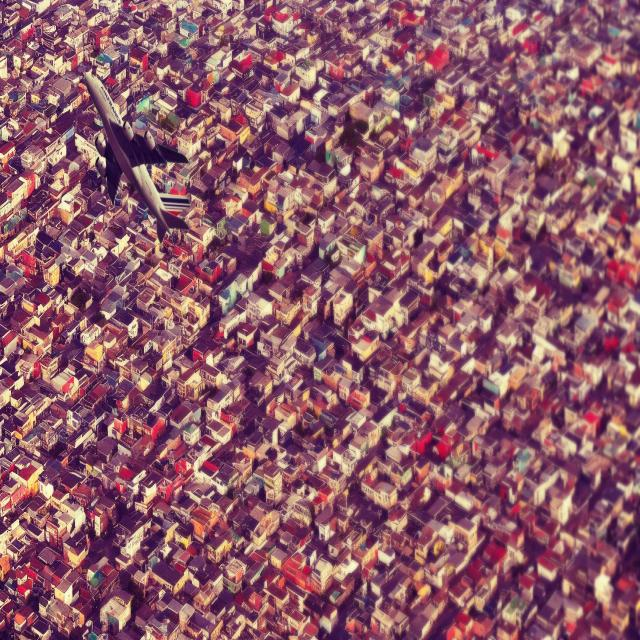airplane: (83, 68, 191, 247)
